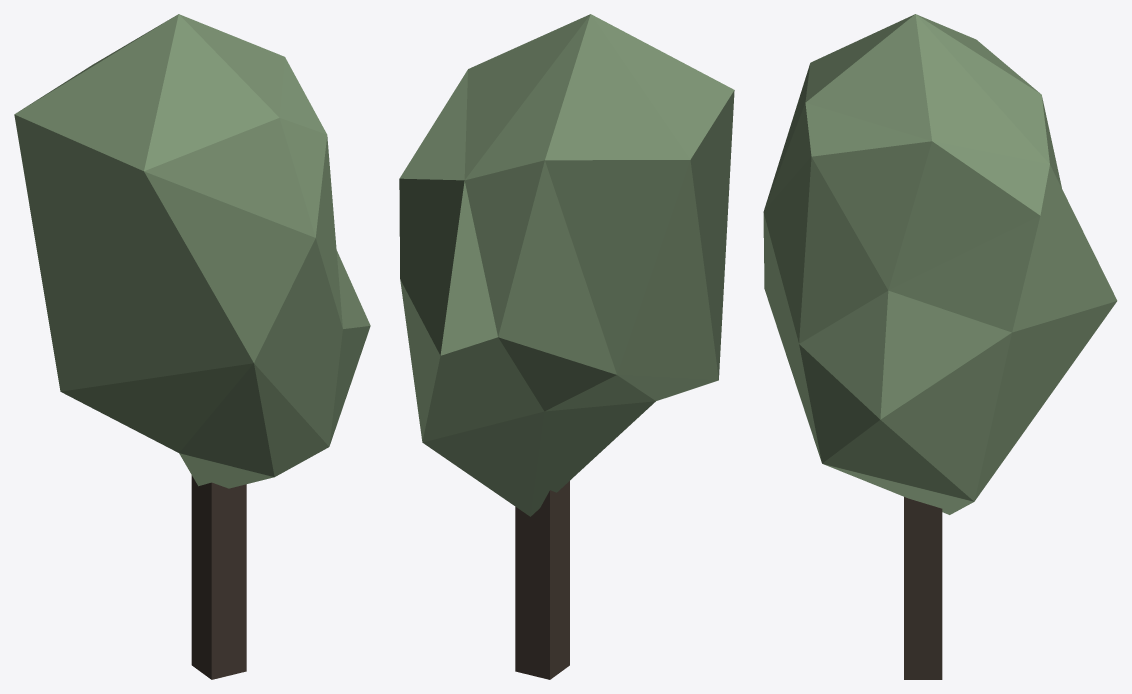
Rendered from tree_small_0.glb.
3 renders of one model, left to right at view 1: azimuth 30°, elevation 25°; view 2: azimuth 150°, elevation 25°; view 3: azimuth 270°, elevation 25°, orthographic. The views are drawn at different scales.
Parts seen in each view (by area): view 1: Tree; view 2: Tree; view 3: Tree.
Boxes of the visible parts, x1=… form: Tree: x1=14, y1=14, x2=370, y2=679; Tree: x1=399, y1=14, x2=734, y2=679; Tree: x1=763, y1=14, x2=1117, y2=679.
Bounding box in the file's own units: 0.7124 × 1.49 × 0.748.
